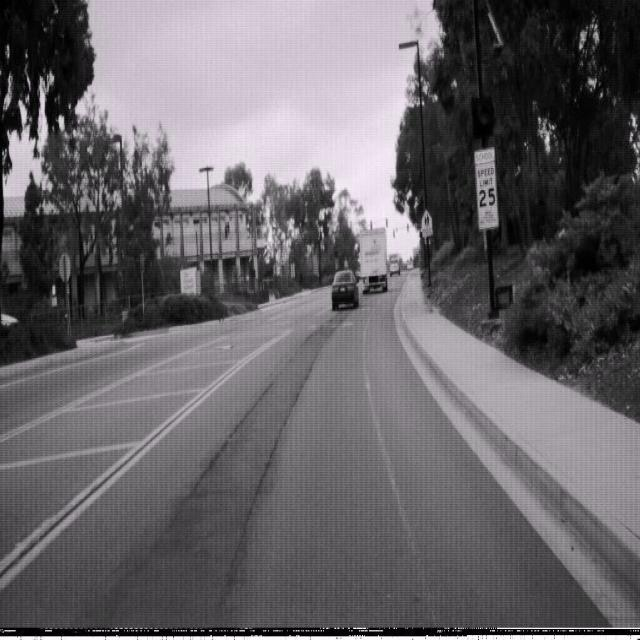speedLimit25: (474, 147, 498, 231)
